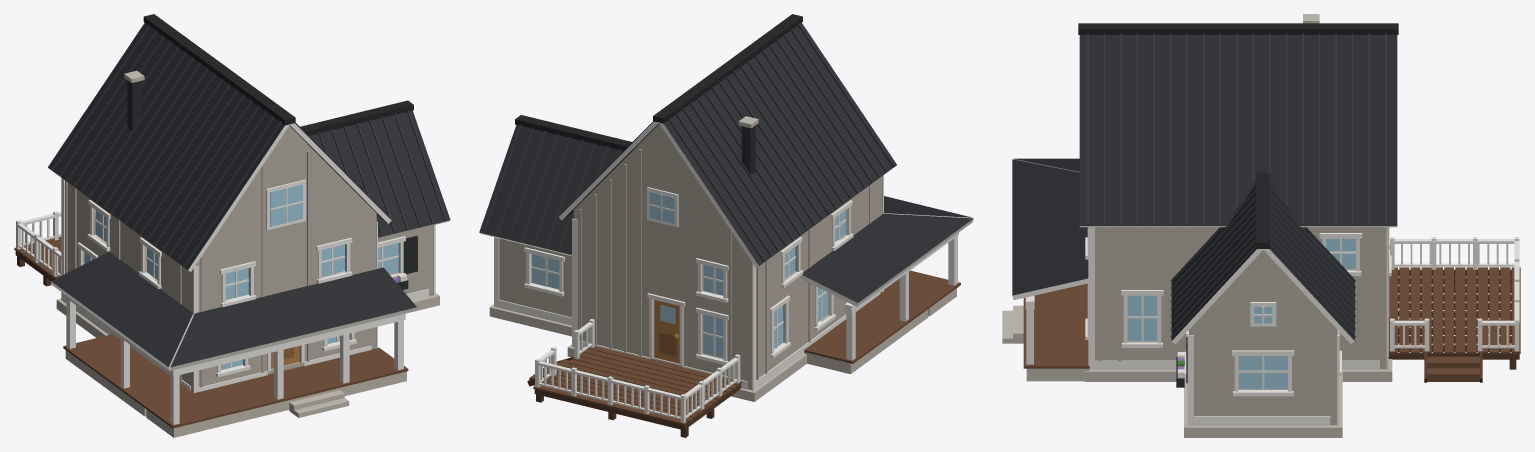
File: base-07-level3.glb
3 views of the same model, side by side, from view 1: azimuth 30°, elevation 25°; view 2: azimuth 150°, elevation 25°; view 3: azimuth 270°, elevation 25° (orthographic). The views are drawn at different scales.
Visible parts, largest first — view 1: base_house_7_finished, piece_addition, piece_deck; view 2: base_house_7_finished, piece_addition, piece_deck; view 3: base_house_7_finished, piece_addition, piece_deck.
Boxes of the visible parts, <box> form: base_house_7_finished: <box>48,14,416,437</box>; piece_addition: <box>300,100,450,310</box>; piece_deck: <box>14,211,61,286</box>; base_house_7_finished: <box>559,14,973,401</box>; piece_addition: <box>479,115,631,336</box>; piece_deck: <box>527,319,741,437</box>; base_house_7_finished: <box>1002,14,1399,381</box>; piece_addition: <box>1170,172,1355,437</box>; piece_deck: <box>1388,237,1520,382</box>.
Size of the model in its own units: 13.93 by 10.17 by 15.67.
